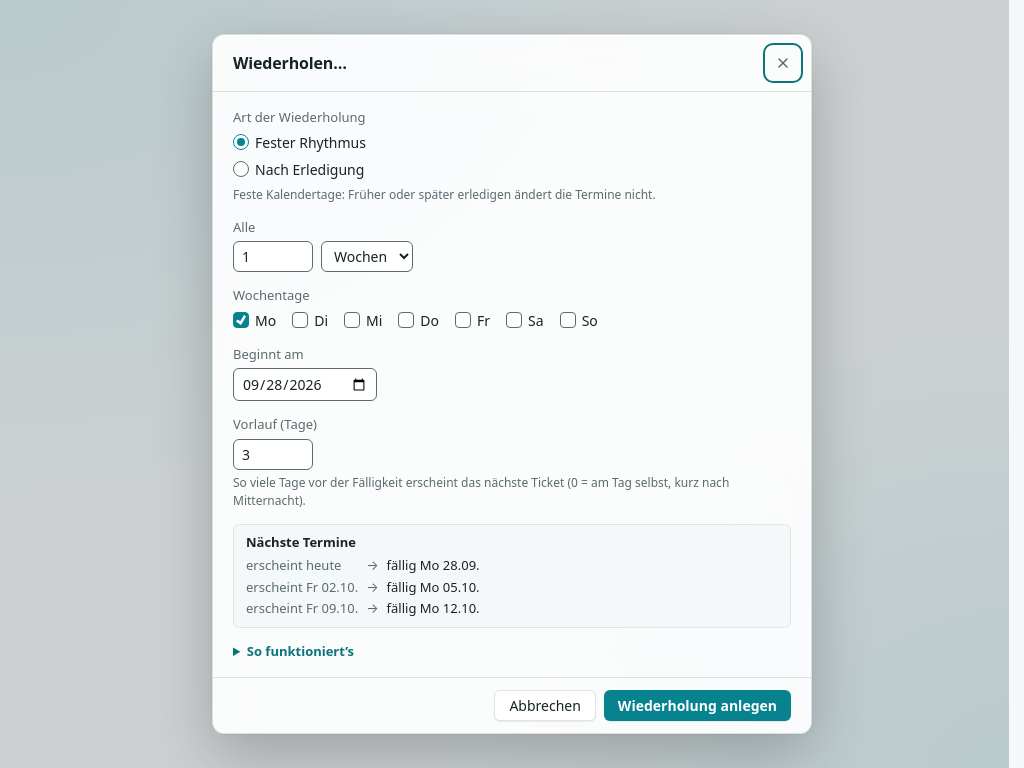
Test: RecurrenceDialog › checks the input before sending and moves the focus to the first error
Click the checkbox named "Montag" at (241, 320), box top-left (233, 312), bottom-right (249, 328)
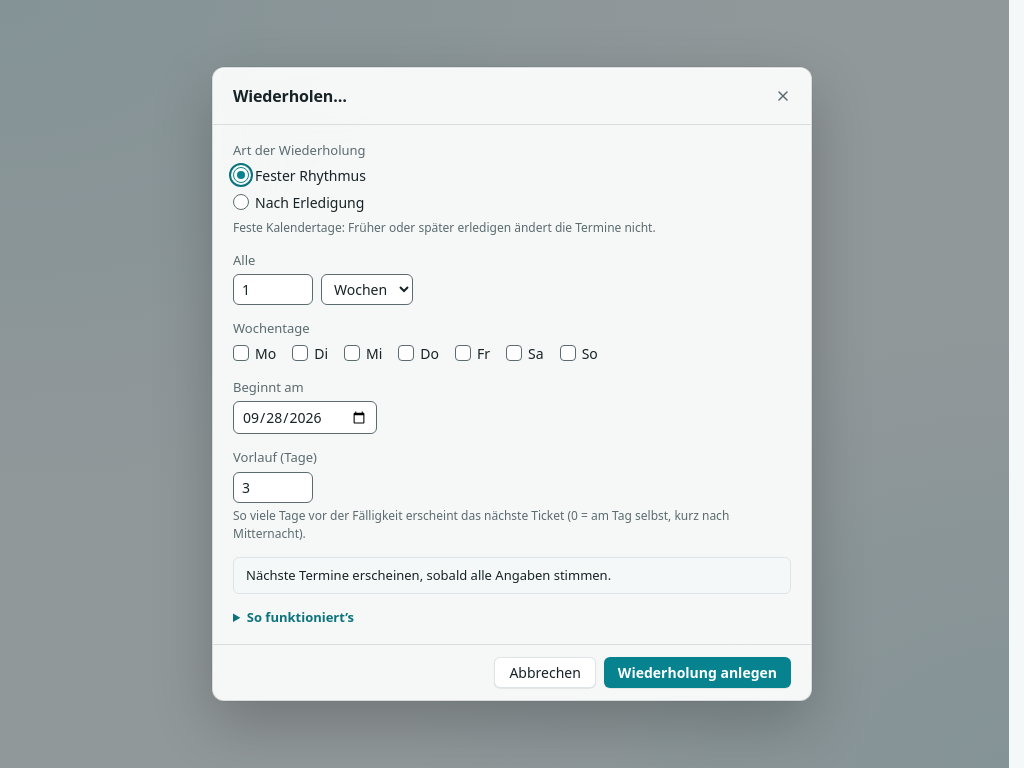
Click the button "Wiederholung anlegen" at (697, 672), box top-left (604, 657), bottom-right (791, 688)
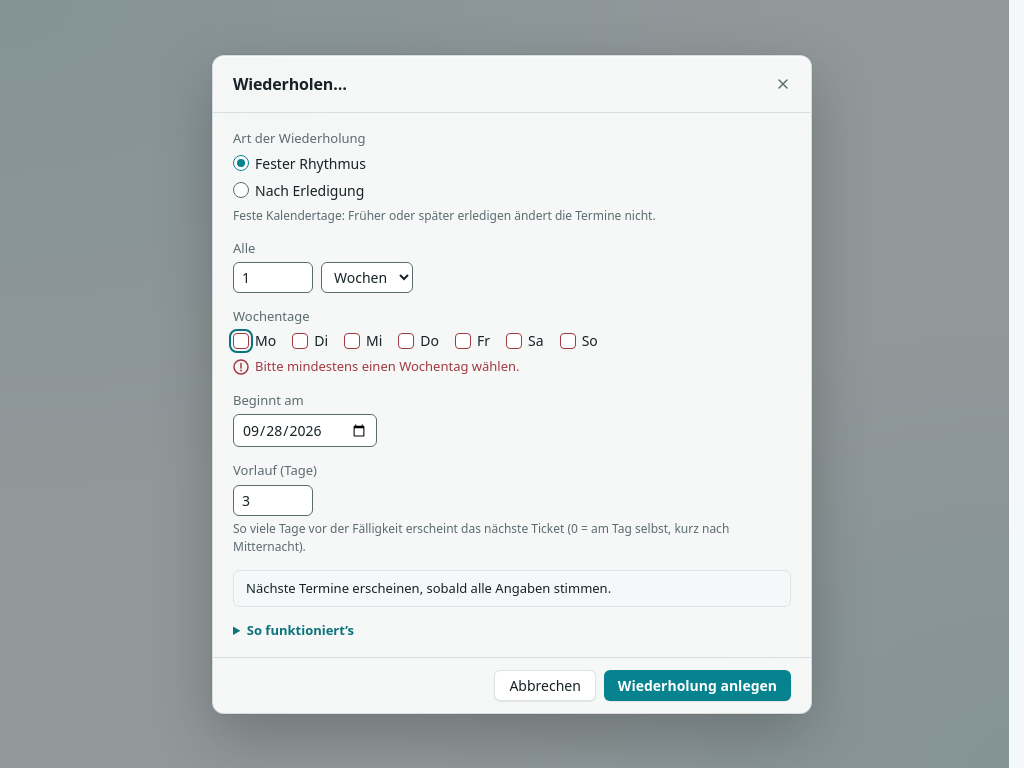
Result: the text "Bitte mindestens einen Wochentag wählen." is shown at top-left (255, 357), bottom-right (520, 376)
